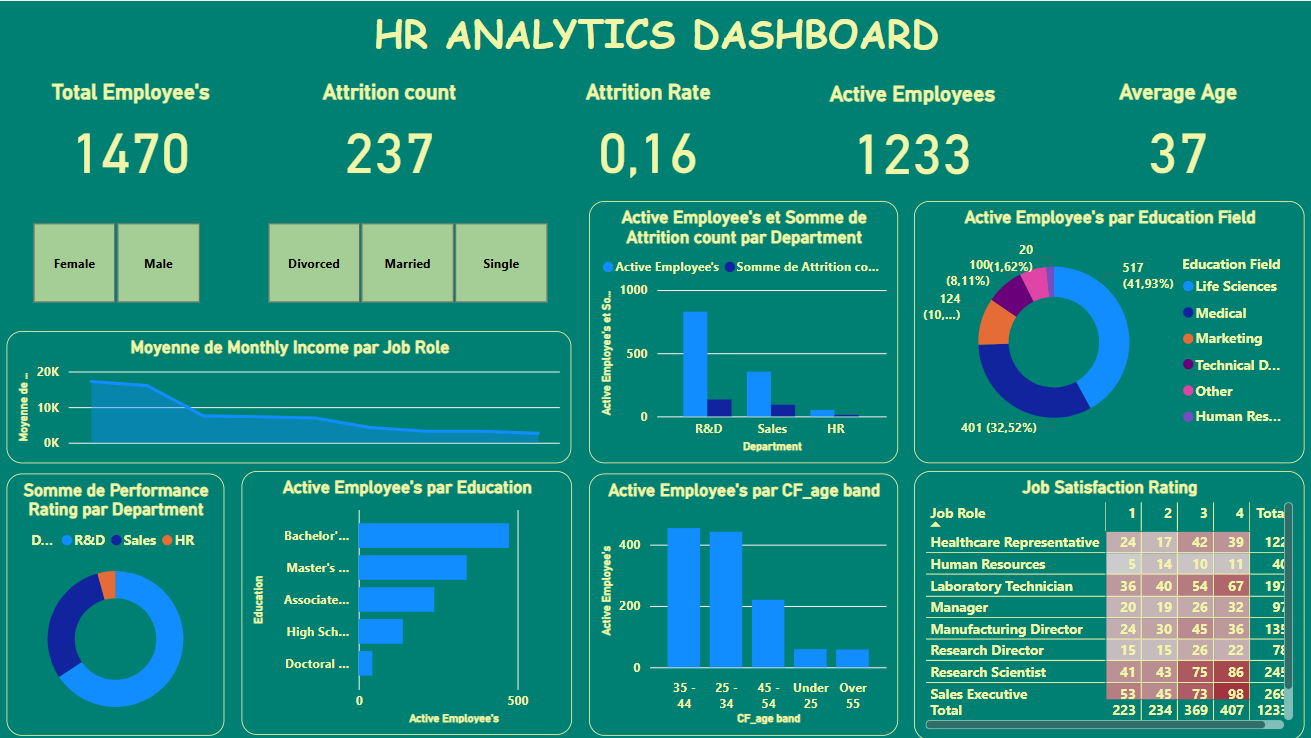

Layout of this report page (visuals, bound fields, positions):
{"tool":"powerbi","page":{"name":"Page 1","canvas":[1280,720],"ordinal":0},"visuals":[{"type":"card","title":"Total Employee''s","fields":{"Values":["Sum(HR data.Employee Count)"]},"box":[45.6,77,166.3,105.8],"z":0},{"type":"card","title":"Attrition count","fields":{"Values":["Sum(HR data.Attrition count)"]},"box":[296.9,77,166.3,105.8],"z":1000},{"type":"card","title":"Attrition Rate","fields":{"Values":["HR data.Attrition Rate"]},"box":[548.3,77,166.3,105.8],"z":2000},{"type":"card","title":"Active Employees","fields":{"Values":["HR data.Active Employee's"]},"box":[799.6,77.6,179.5,105.8],"z":3000},{"type":"card","title":"Average Age","fields":{"Values":["Avg(HR data.Age)"]},"box":[1064.2,77,166.3,105.8],"z":4000},{"type":"clusteredColumnChart","fields":{"Y":["HR data.Active Employee's","Sum(HR data.Attrition count)"],"Category":["HR data.Department"]},"box":[574.3,194.4,300.5,255.1],"z":5000},{"type":"donutChart","fields":{"Category":["HR data.Education Field"],"Y":["HR data.Active Employee's"]},"box":[889.7,194.4,379.8,255.1],"z":6000},{"type":"columnChart","fields":{"Y":["HR data.Active Employee's"],"Category":["HR data.CF_age band"]},"box":[574.5,459.2,300.5,255.1],"z":7000},{"type":"pivotTable","title":"Job Satisfaction Rating","fields":{"Columns":["HR data.Job Satisfaction"],"Rows":["HR data.Job Role"],"Values":["HR data.Active Employee's"]},"box":[890.1,457.3,379.8,262.7],"z":8000},{"type":"donutChart","fields":{"Y":["Sum(HR data.Performance Rating)"],"Category":["HR data.Department"]},"box":[7.6,459.2,211.7,255.1],"z":9000},{"type":"clusteredBarChart","fields":{"Y":["HR data.Active Employee's"],"Category":["HR data.Education"]},"box":[235.6,457.3,321.3,257],"z":10000},{"type":"areaChart","fields":{"Category":["HR data.Job Role"],"Y":["Avg(HR data.Monthly Income)"]},"box":[7.6,321.3,549.9,128.5],"z":11000},{"type":"slicer","fields":{"Values":["HR data.Gender"]},"box":[7.6,209.7,211.7,90.7],"z":12000},{"type":"slicer","fields":{"Values":["HR data.Marital Status"]},"box":[236.2,209.7,321.3,90.7],"z":13000},{"type":"textbox","box":[0,0,1279.4,64.3],"z":14000}]}

Visuals, with their boxes in screenshot pixels (x1, y1, x2, y2), scaled from the page's 1280x720 canvas onto the 1311x738 screenshot:
"Total Employee''s" card: <bbox>47, 79, 217, 187</bbox>
"Attrition count" card: <bbox>304, 79, 474, 187</bbox>
"Attrition Rate" card: <bbox>562, 79, 732, 187</bbox>
"Active Employees" card: <bbox>819, 80, 1003, 188</bbox>
"Average Age" card: <bbox>1090, 79, 1260, 187</bbox>
clusteredColumnChart - HR data.Active Employee's x Sum(HR data.Attrition count): <bbox>588, 199, 896, 461</bbox>
donutChart - HR data.Education Field x HR data.Active Employee's: <bbox>911, 199, 1300, 461</bbox>
columnChart - HR data.Active Employee's x HR data.CF_age band: <bbox>588, 471, 896, 732</bbox>
"Job Satisfaction Rating" pivotTable: <bbox>912, 469, 1301, 737</bbox>
donutChart - Sum(HR data.Performance Rating) x HR data.Department: <bbox>8, 471, 225, 732</bbox>
clusteredBarChart - HR data.Active Employee's x HR data.Education: <bbox>241, 469, 570, 732</bbox>
areaChart - HR data.Job Role x Avg(HR data.Monthly Income): <bbox>8, 329, 571, 461</bbox>
slicer - HR data.Gender: <bbox>8, 215, 225, 308</bbox>
slicer - HR data.Marital Status: <bbox>242, 215, 571, 308</bbox>
textbox: <bbox>0, 0, 1310, 66</bbox>
